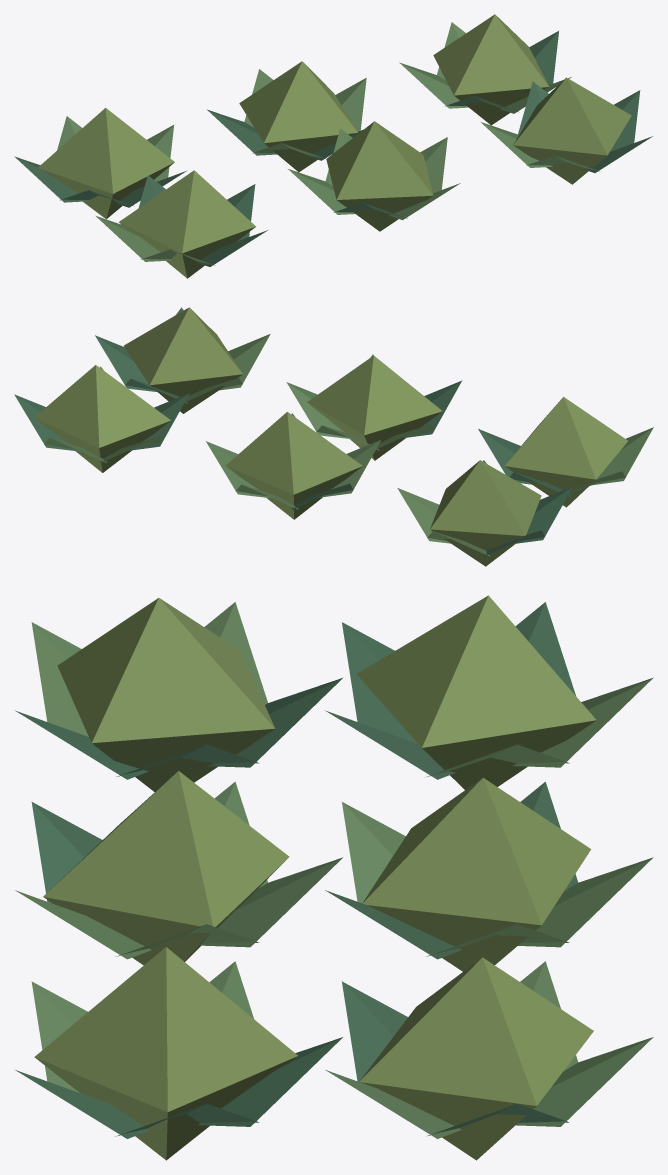
File: cabbages.glb
The picture shows the model from 3 angles, top to bottom: view 1: azimuth 30°, elevation 25°; view 2: azimuth 150°, elevation 25°; view 3: azimuth 270°, elevation 25°; orthographic projection. The views are drawn at different scales.
Parts seen in each view (by area): view 1: cabbages; view 2: cabbages; view 3: cabbages.
Boxes of the visible parts, left/top/right/bottom form: cabbages: left=14, top=14, right=652, bottom=278; cabbages: left=14, top=307, right=653, bottom=566; cabbages: left=14, top=595, right=653, bottom=1160.
Bounding box in the file's own units: 2.07 × 0.4 × 1.11.
